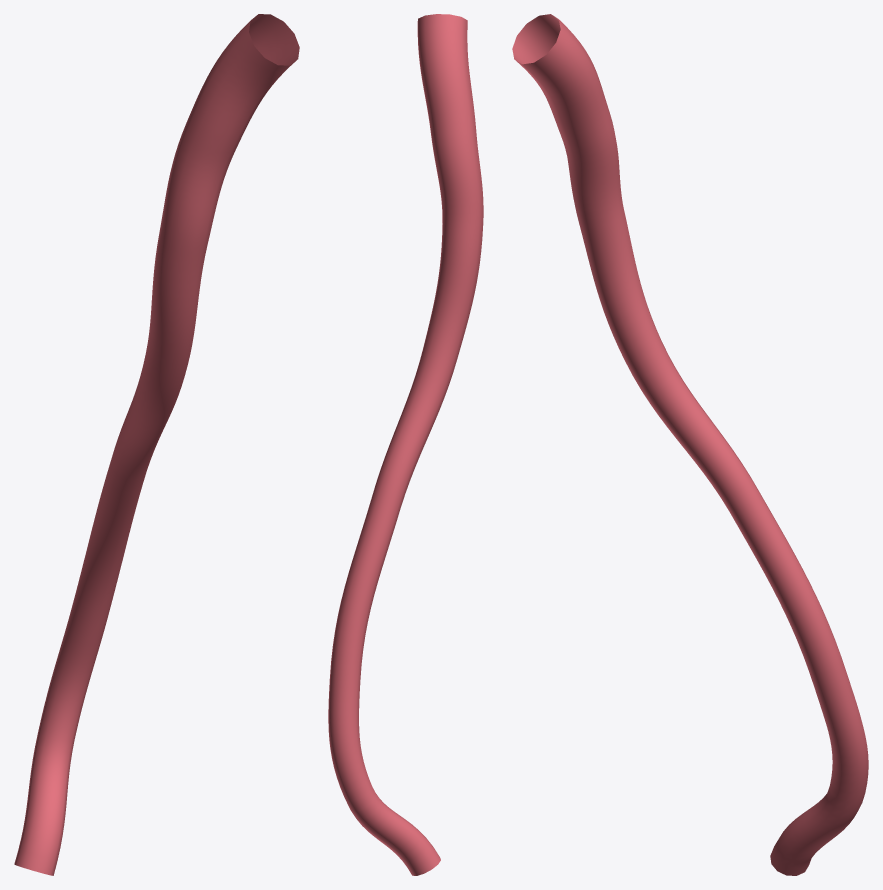
The picture shows the model from 3 angles, left to right: view 1: azimuth 30°, elevation 25°; view 2: azimuth 150°, elevation 25°; view 3: azimuth 270°, elevation 25°; orthographic projection. The views are drawn at different scales.
Parts seen in each view (by area): view 1: ZA_25f8cdbc94c687ba; view 2: ZA_25f8cdbc94c687ba; view 3: ZA_25f8cdbc94c687ba.
Part boxes in pixels (x1,y1,x2,y2): ZA_25f8cdbc94c687ba: (14,14,299,875); ZA_25f8cdbc94c687ba: (328,14,483,875); ZA_25f8cdbc94c687ba: (512,14,868,875).
Bounding box in the file's own units: 0.0281 × 0.1642 × 0.0589.
